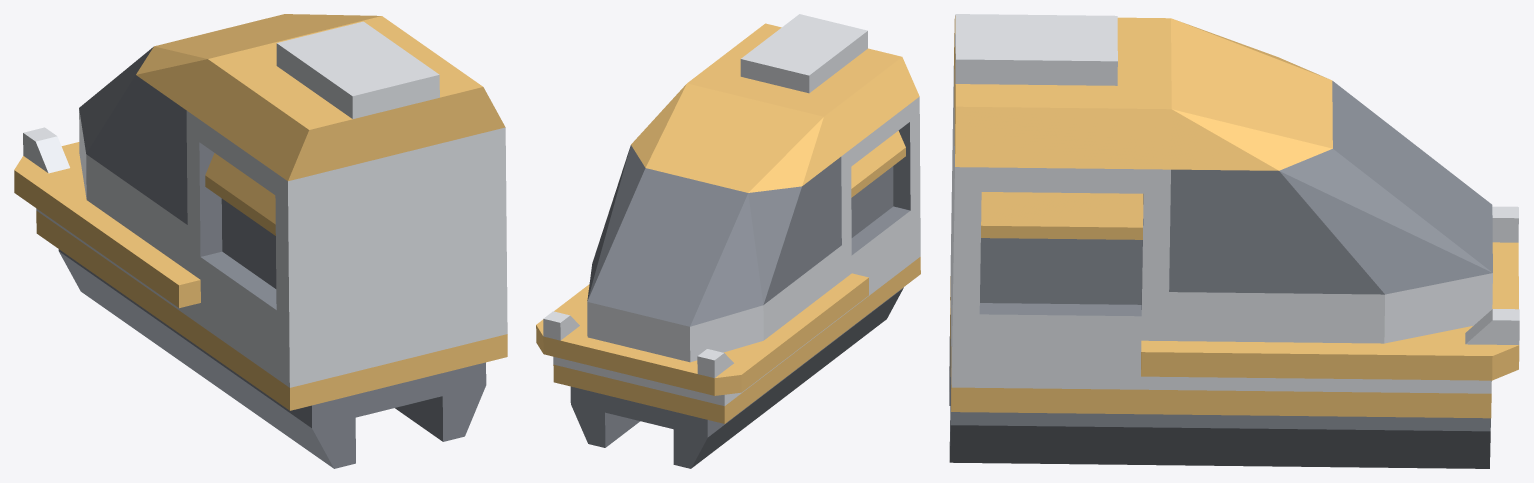
The model's file is monorail1.glb.
3 renders of one model, left to right at view 1: azimuth 30°, elevation 25°; view 2: azimuth 150°, elevation 25°; view 3: azimuth 270°, elevation 25°, orthographic. The views are drawn at different scales.
Parts seen in each view (by area): view 1: monorail_trainFront; view 2: monorail_trainFront; view 3: monorail_trainFront.
Part boxes in pixels (<box>): monorail_trainFront: <box>14,14,507,468</box>; monorail_trainFront: <box>536,14,920,468</box>; monorail_trainFront: <box>949,14,1519,468</box>.
Size of the model in its own units: 3.01 by 4.07 by 5.28.
